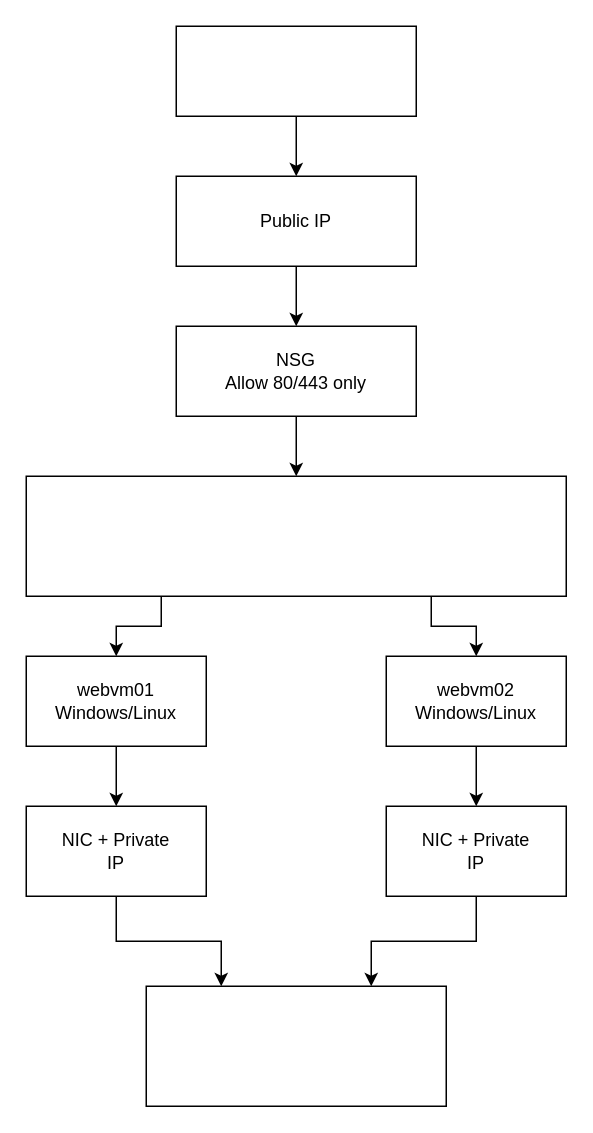
This 593x1133 diagram has some shape labels left out. The centre of each missing label's shape, as x and y in pixels:
Availability Set (avset-web) FD1 / FD2 | UD1 ... UD5: (295,535)
Public Internet: (295,70)
VNet: 10.0.0.0/16 Subnet: 10.0.1.0/24: (295,1045)
